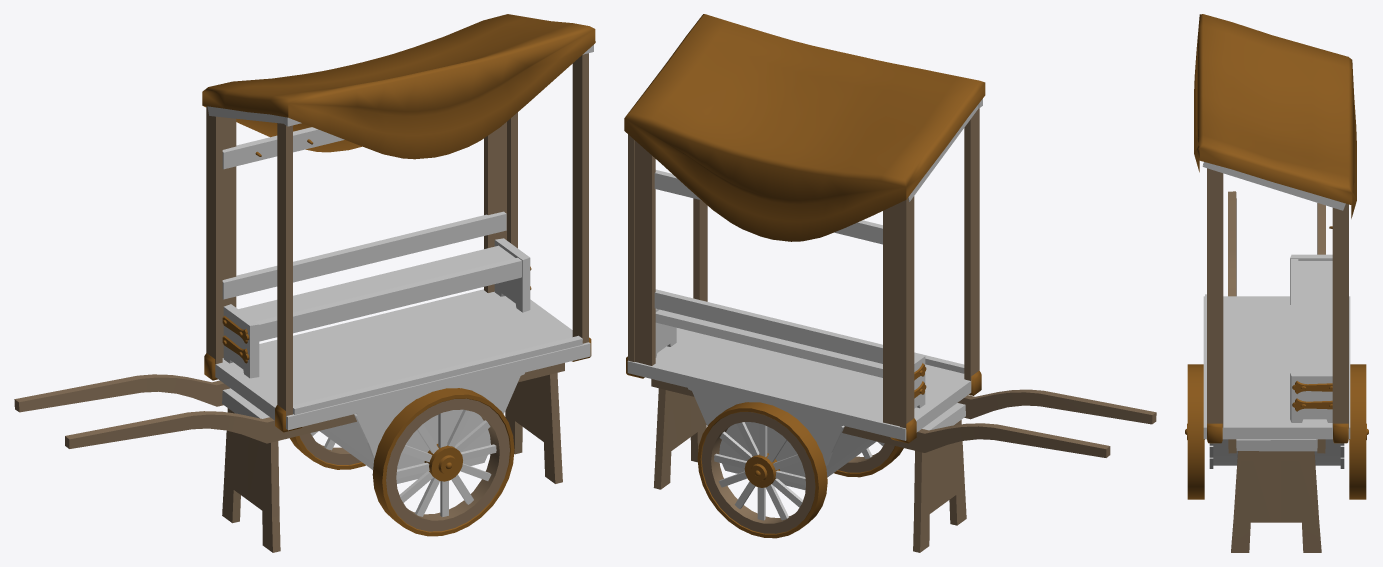
File: Stall_Cart_Empty.gltf
The picture shows the model from 3 angles, left to right: view 1: azimuth 30°, elevation 25°; view 2: azimuth 150°, elevation 25°; view 3: azimuth 270°, elevation 25°; orthographic projection. The views are drawn at different scales.
Visible parts, largest first — view 1: Stall_Cart_Empty; view 2: Stall_Cart_Empty; view 3: Stall_Cart_Empty.
Part boxes in pixels (x1,y1,x2,y2): Stall_Cart_Empty: [14, 14, 595, 552]; Stall_Cart_Empty: [624, 14, 1156, 552]; Stall_Cart_Empty: [1185, 14, 1368, 552].
Size of the model in its own units: 3.02 by 2.63 by 1.06.
